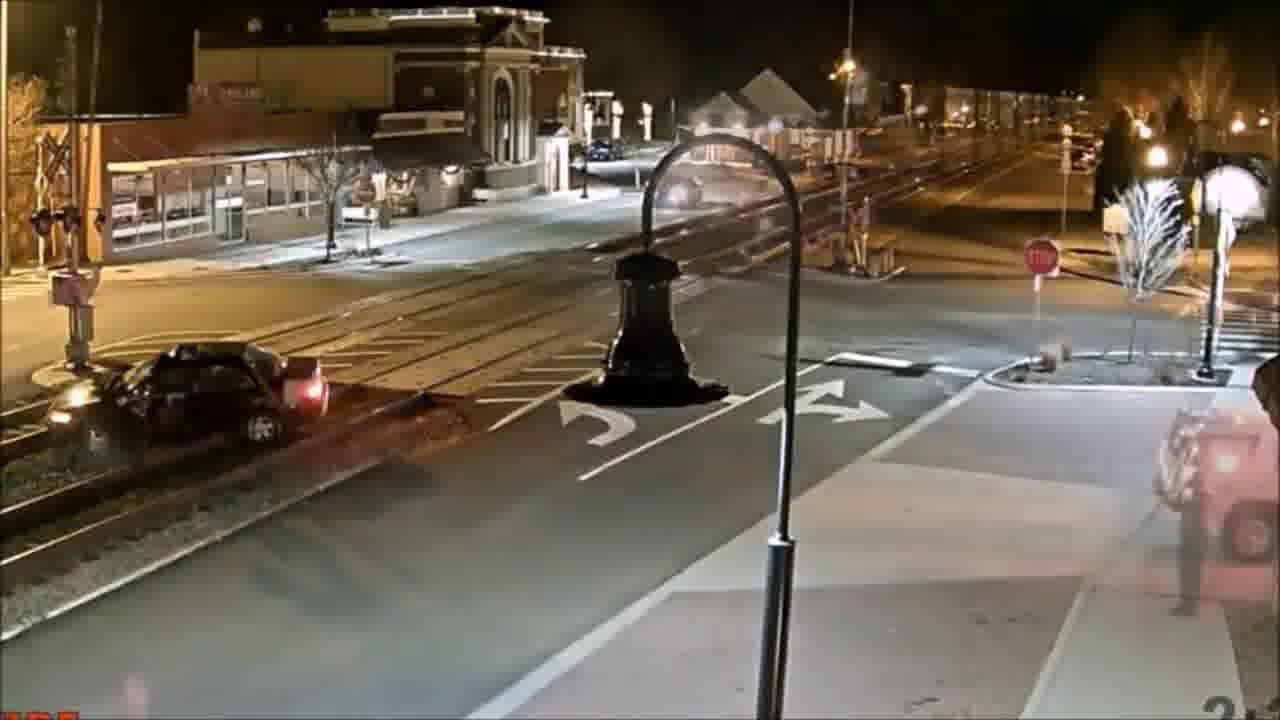crossing railway track: (39, 326, 323, 471)
